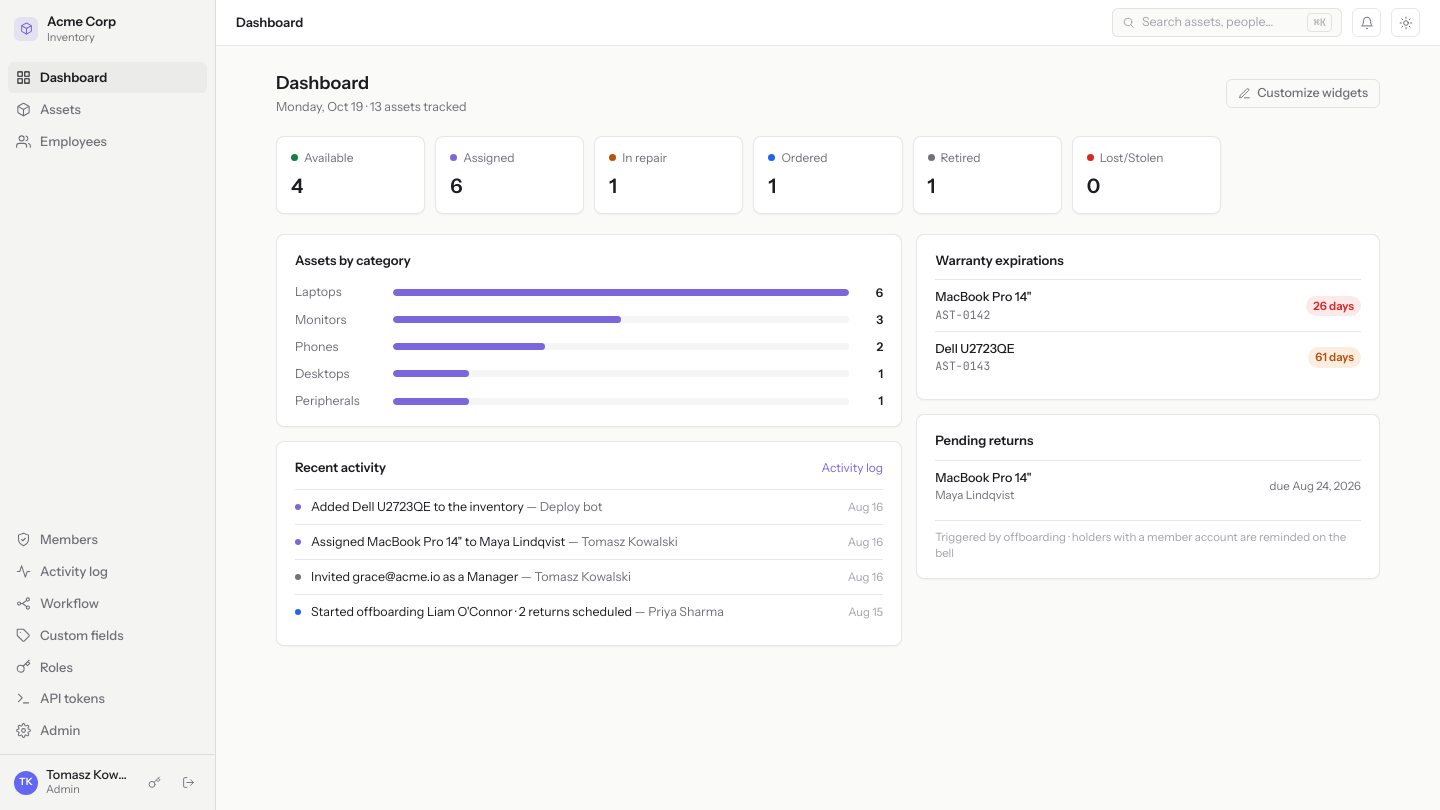
Scenario: changing your own password › shows the server's words under the field that was wrong
Click the button named "Change password" at (154, 782), box 141,770 -> 167,796
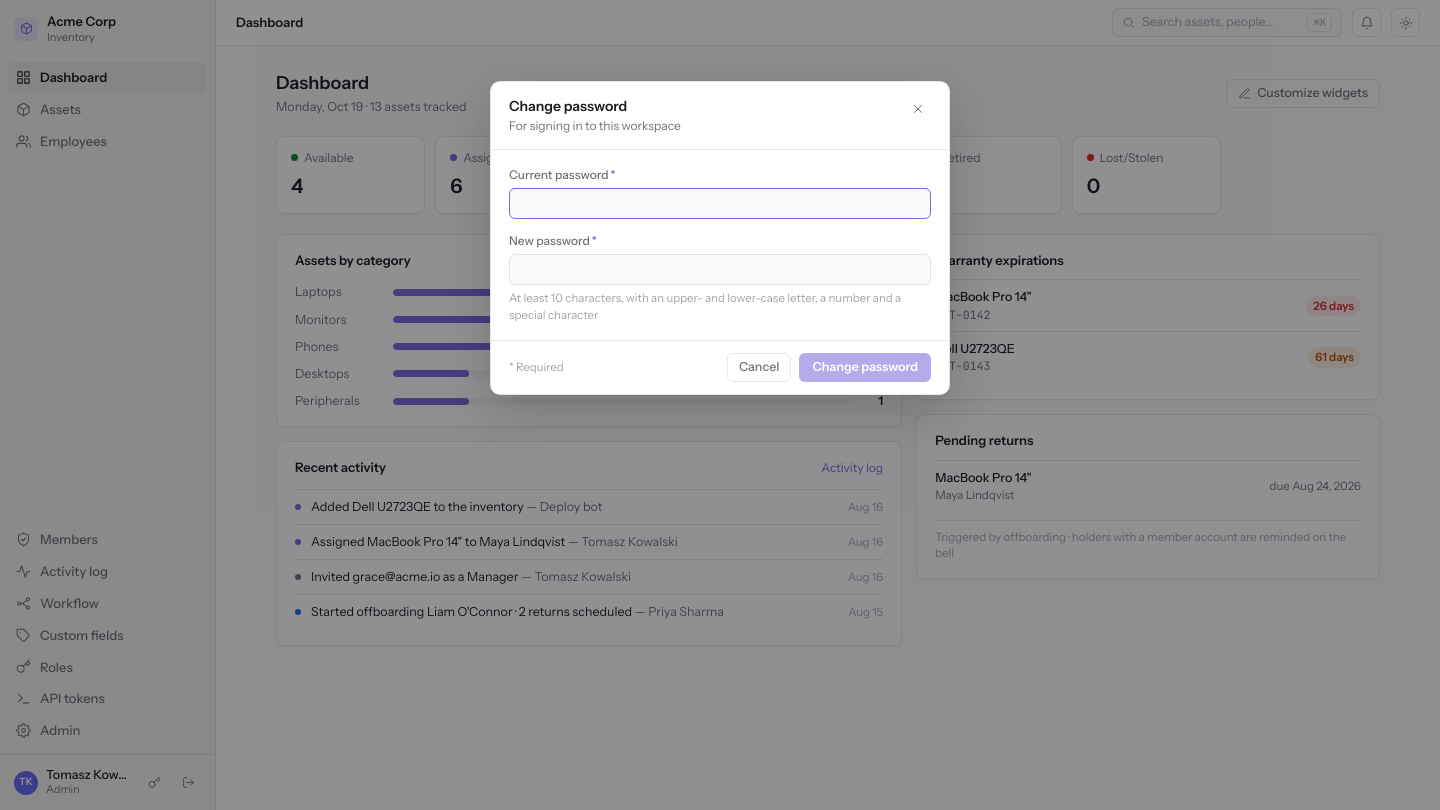
Type "the-old-password" into the password field labelled "Current password" at (720, 204), box 509,188 -> 931,219
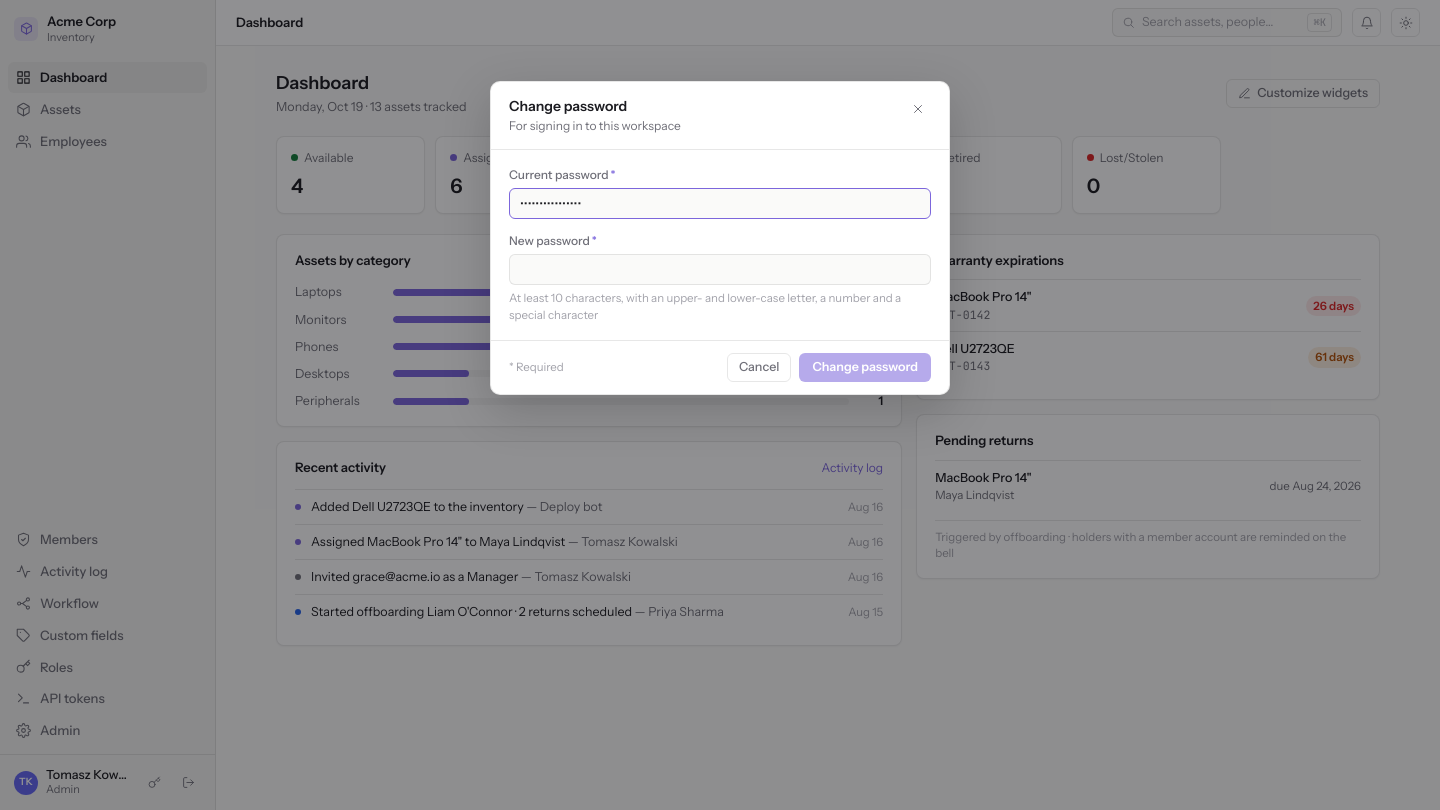
Type "the-new-password-here" into the password field labelled "New password" at (720, 270), box 509,254 -> 931,286
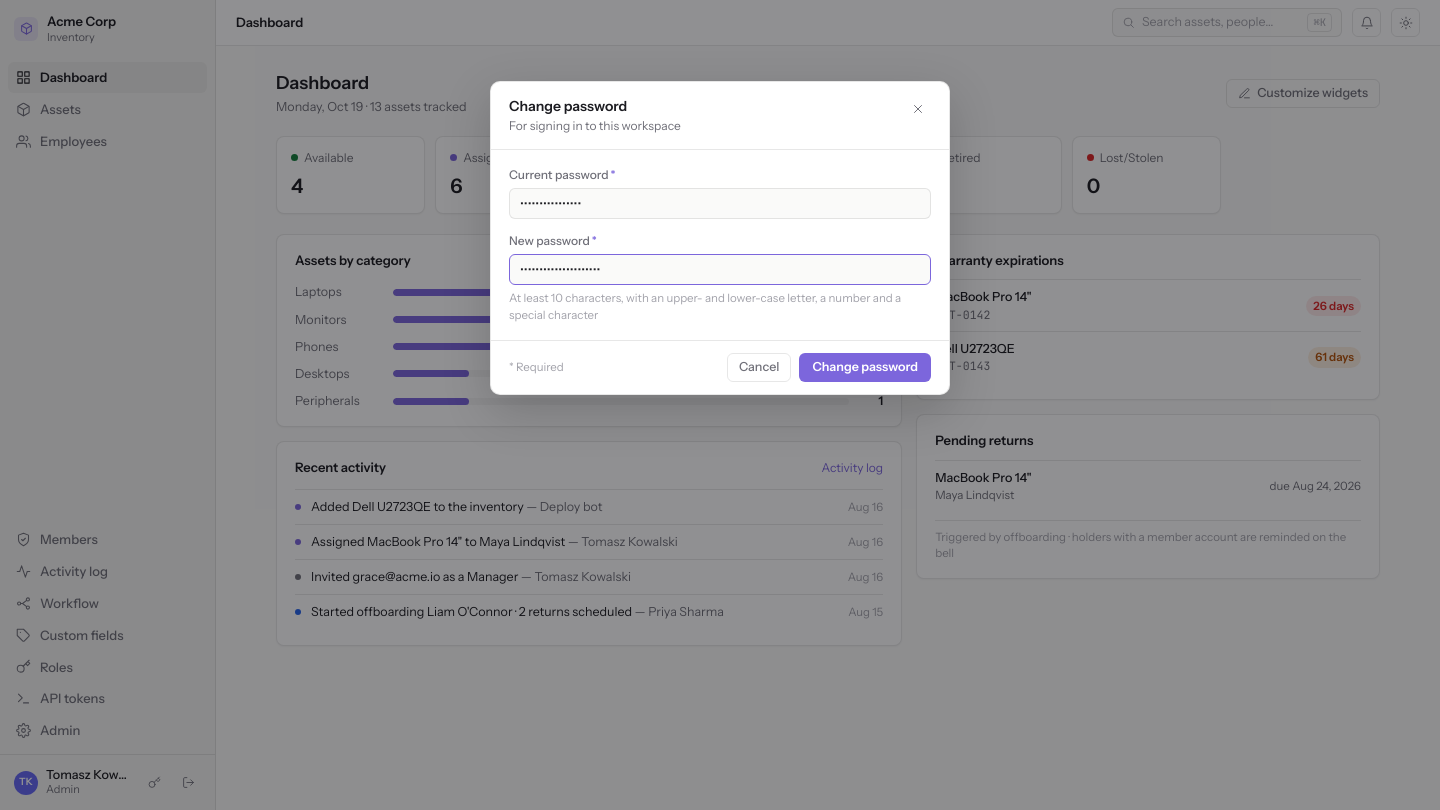
Click the button "Change password" at (865, 367), box 799,353 -> 931,382
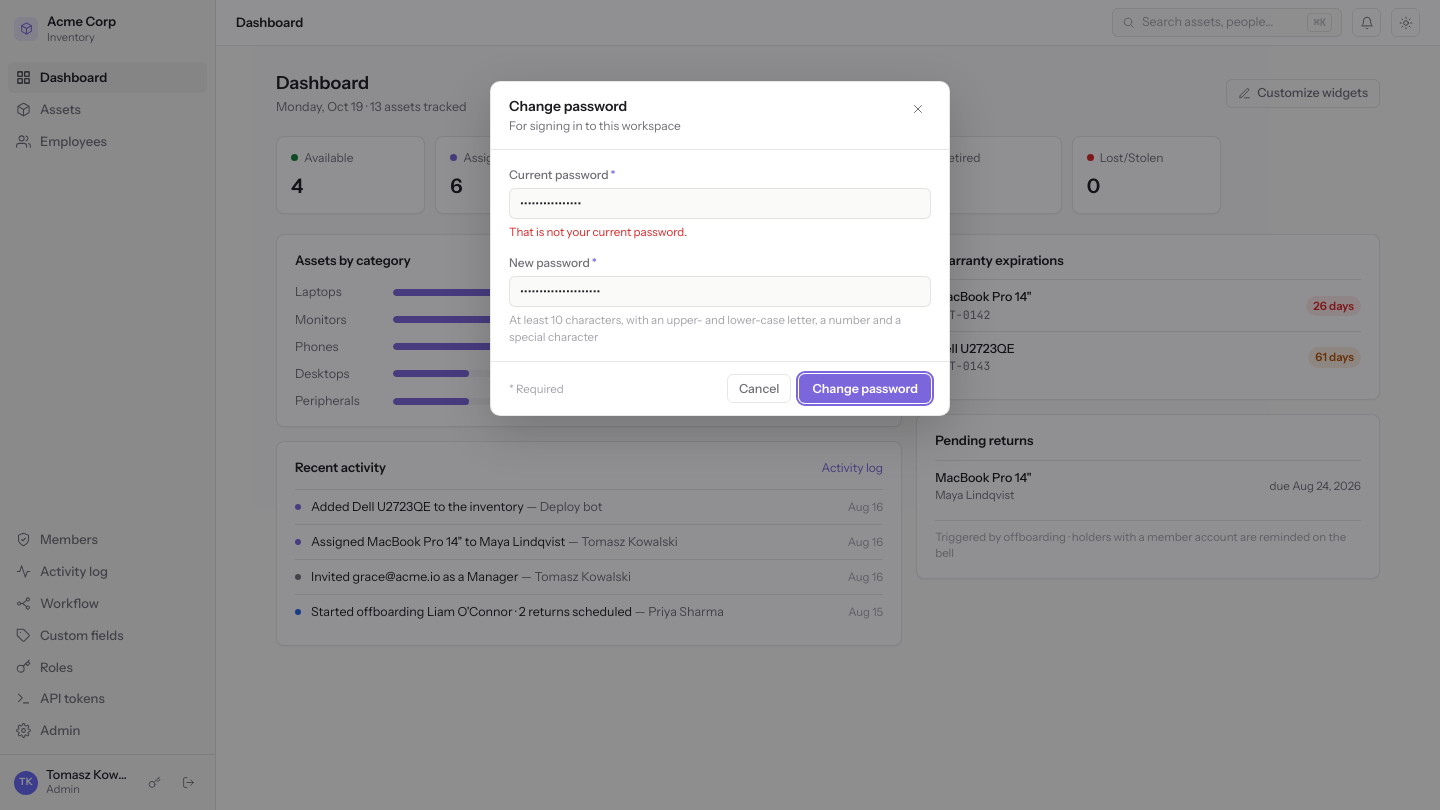
Result: the dialog is shown at 490,81 -> 950,416
Result: the text "That is not your current password." is shown at 509,225 -> 687,239
